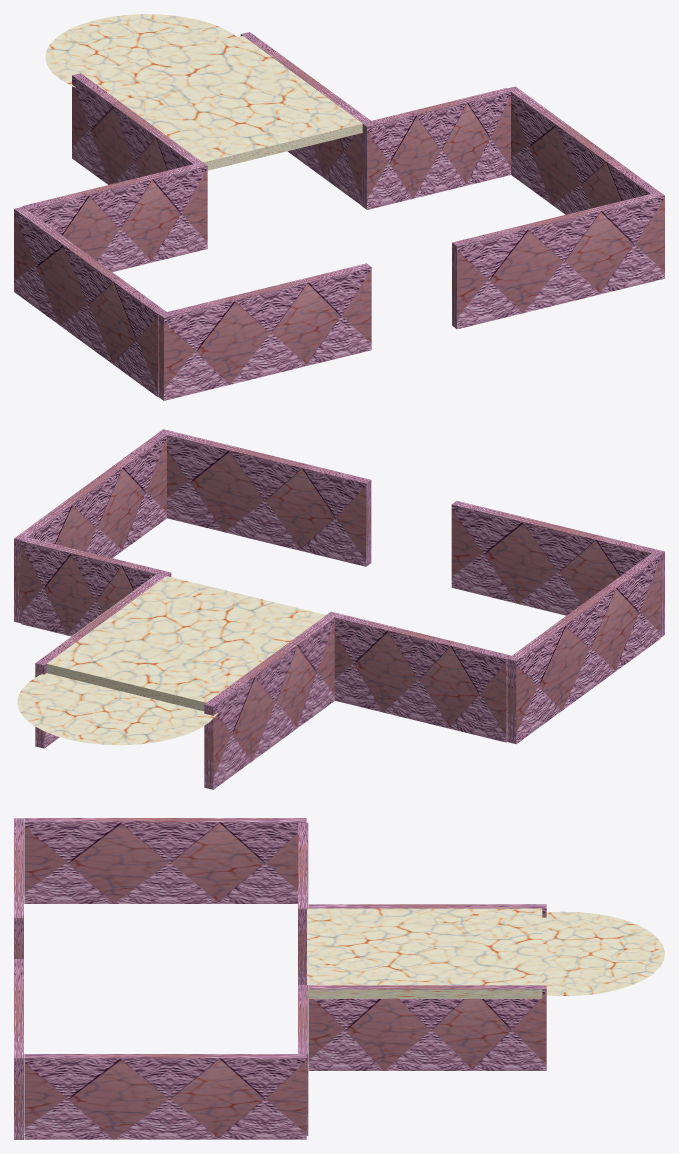
Rendered from wall.obj.
The picture shows the model from 3 angles, top to bottom: view 1: azimuth 30°, elevation 25°; view 2: azimuth 150°, elevation 25°; view 3: azimuth 270°, elevation 25°; orthographic projection. The views are drawn at different scales.
Parts seen in each view (by area): view 1: Cube.2, Cube.8, Cube.5, Cube.7, Cube.3, Cube.6, Cube.4, Cube.1, Disc.2, Cube; view 2: Cube.2, Cube.5, Cube.6, Cube.8, Cube.7, Cube.1, Cube.4, Disc.2, Cube.3, Cube; view 3: Cube.4, Cube.7, Cube.2, Cube, Disc.2, Cube.5, Cube.6, Cube.8, Cube.1, Cube.3.
Part boxes in pixels (left/top/right/bottom): Cube.2: left=83, top=34, right=371, bottom=170; Cube.8: left=158, top=263, right=371, bottom=400; Cube.5: left=452, top=192, right=664, bottom=329; Cube.7: left=14, top=206, right=166, bottom=396; Cube.3: left=362, top=88, right=511, bottom=209; Cube.6: left=22, top=162, right=207, bottom=271; Cube.4: left=507, top=86, right=659, bottom=214; Cube.1: left=72, top=73, right=201, bottom=184; Disc.2: left=45, top=14, right=236, bottom=87; Cube: left=240, top=32, right=370, bottom=205; Cube.2: left=37, top=574, right=332, bottom=711; Cube.5: left=158, top=429, right=371, bottom=566; Cube.6: left=326, top=611, right=510, bottom=742; Cube.8: left=451, top=501, right=664, bottom=637; Cube.7: left=507, top=553, right=660, bottom=744; Cube.1: left=204, top=615, right=334, bottom=789; Cube.4: left=14, top=433, right=166, bottom=623; Disc.2: left=17, top=673, right=217, bottom=745; Cube.3: left=21, top=537, right=171, bottom=636; Cube: left=35, top=574, right=165, bottom=748; Cube.4: left=24, top=1054, right=306, bottom=1139; Cube.7: left=24, top=818, right=306, bottom=903; Cube.2: left=307, top=905, right=542, bottom=998; Cube: left=308, top=985, right=546, bottom=1070; Disc.2: left=542, top=911, right=664, bottom=996; Cube.5: left=14, top=959, right=23, bottom=1139; Cube.6: left=298, top=822, right=308, bottom=984; Cube.8: left=14, top=818, right=23, bottom=958; Cube.1: left=308, top=904, right=546, bottom=917; Cube.3: left=298, top=985, right=308, bottom=1135.
Size of the model in its own units: 344 by 54.4 by 394.
